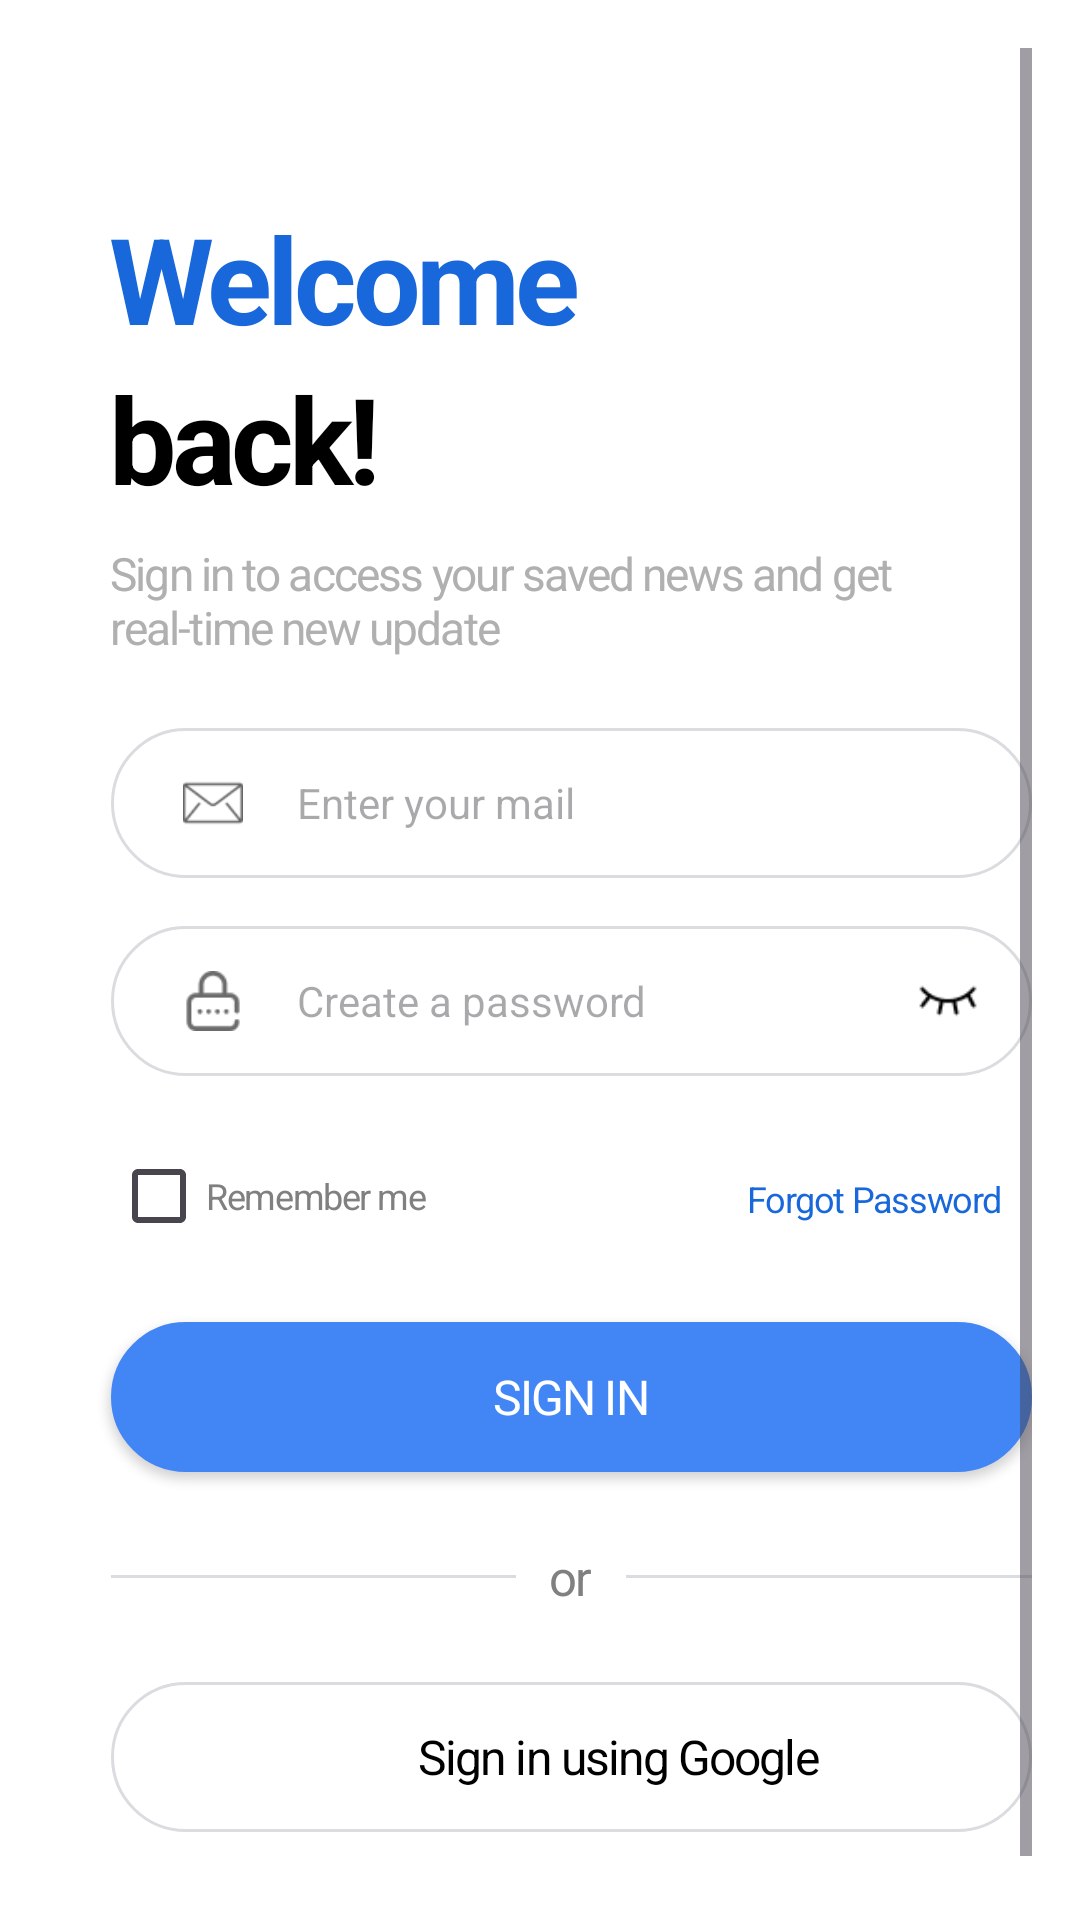

Point at icon controls on the screen. Image size 1080px×1920px, points as (x=x, y=y).
eye: (x=948, y=1001)
